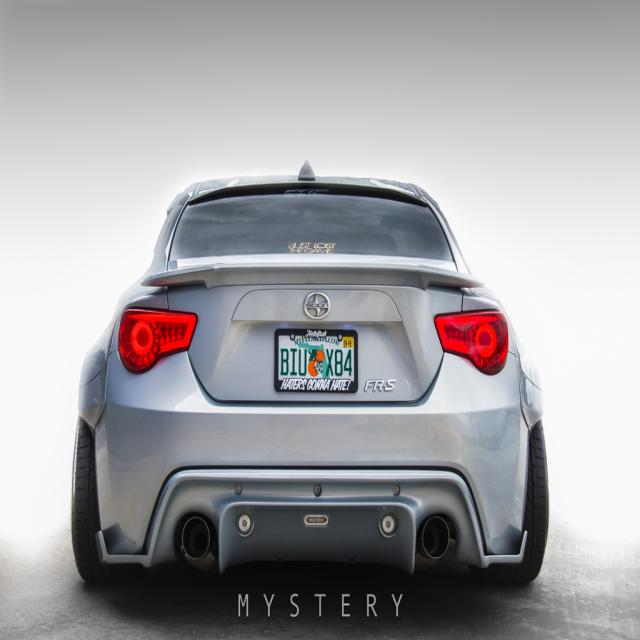car: (75, 157, 561, 608)
